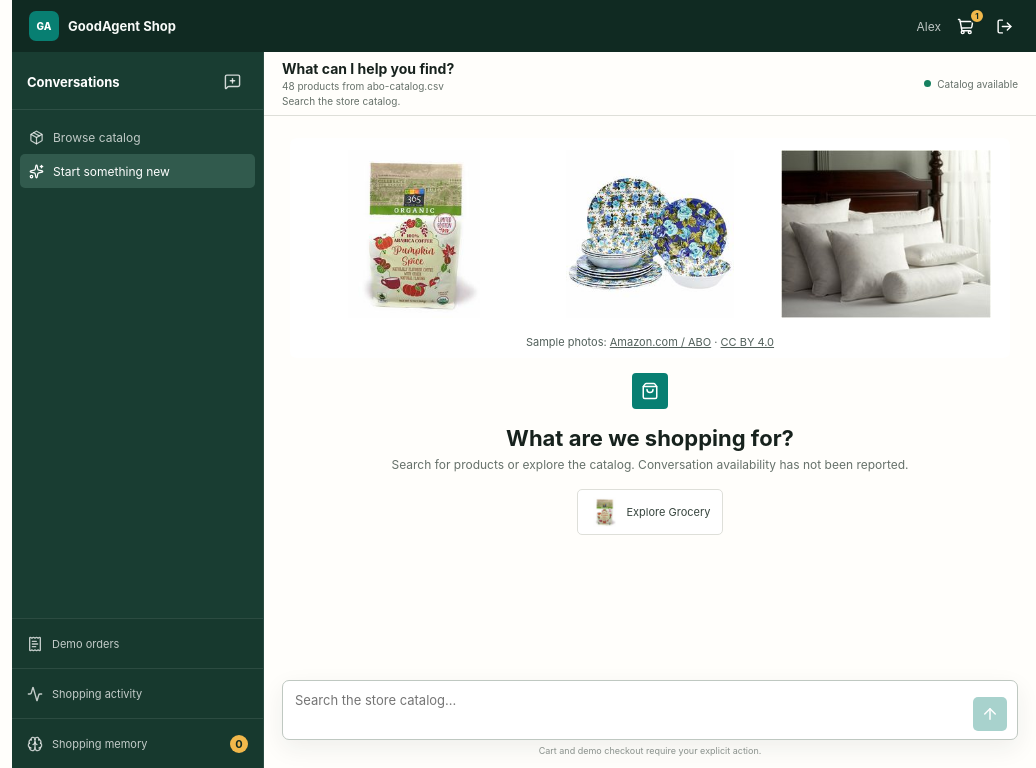
Test: ShopperApp › shows the actual checkout deadline instead of promising a new fifteen-minute hold
This screenshot has width=1036, height=768.
Click the button named "Open cart with 1 items" at [965, 26], box [950,11,980,41]
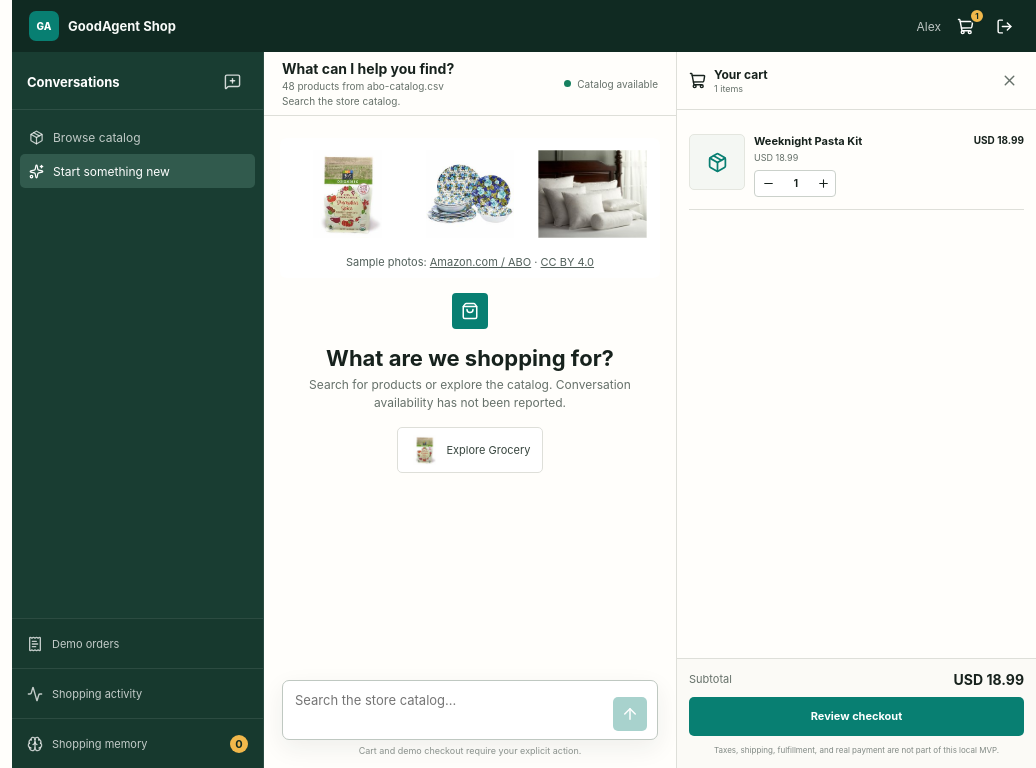
Expected: the button "Review checkout" is enabled
Click the button "Review checkout" at [856, 716], box [689,697,1024,736]
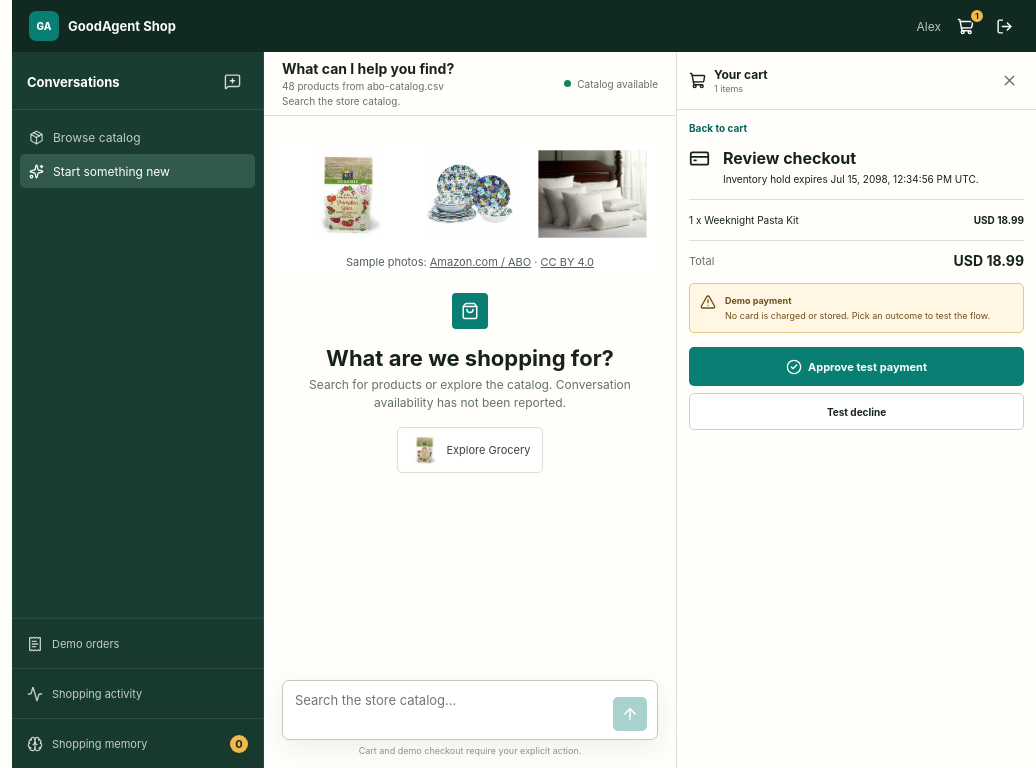
Expected: the button "Approve test payment" is shown, [689,347,1024,386]
Expected: the text "Jul 15, 2098, 12:34:56 PM UTC" is shown, [830,173,976,185]
